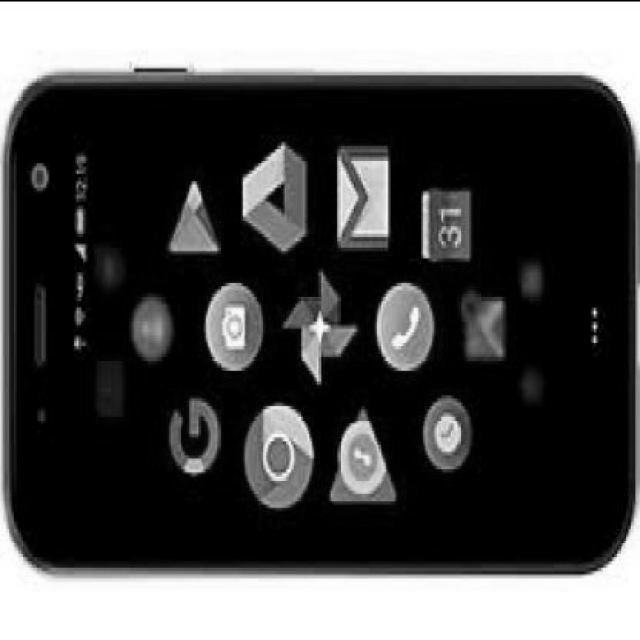fake: (2, 71, 638, 577)
